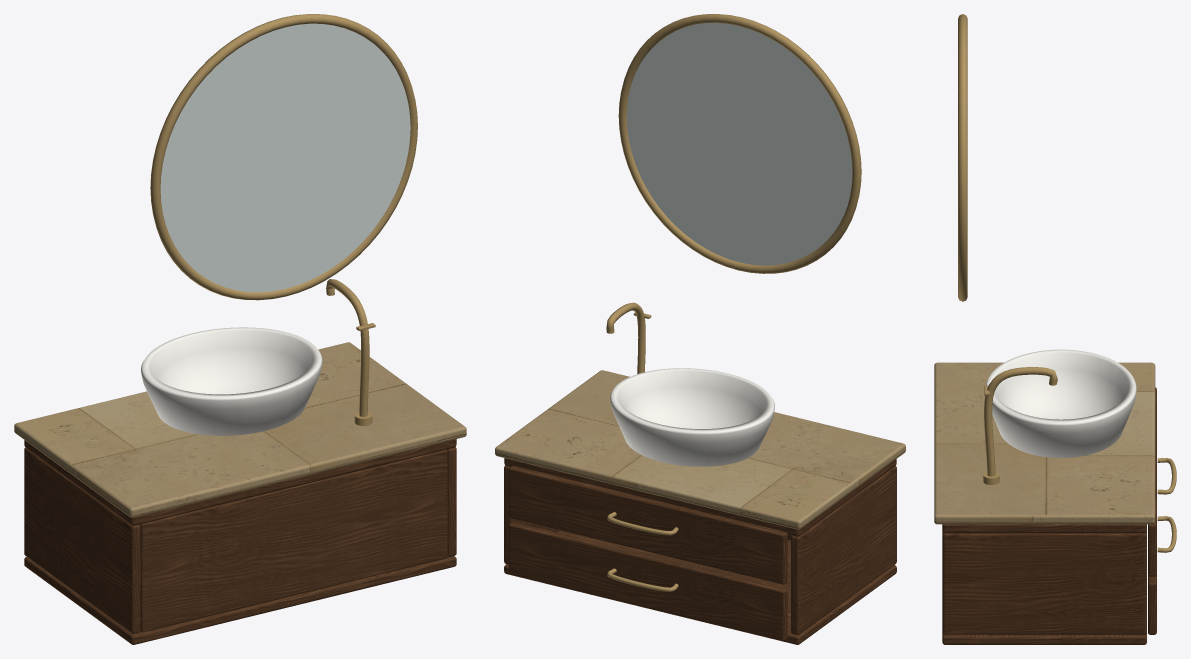
Rendered from residential-powder-vanity.glb.
The picture shows the model from 3 angles, left to right: view 1: azimuth 30°, elevation 25°; view 2: azimuth 150°, elevation 25°; view 3: azimuth 270°, elevation 25°; orthographic projection. The views are drawn at different scales.
Parts seen in each view (by area): view 1: walnut_surfaces, mirror_surfaces, stone_surfaces, ceramic_surfaces, bronze_surfaces; view 2: walnut_surfaces, mirror_surfaces, stone_surfaces, ceramic_surfaces, bronze_surfaces; view 3: walnut_surfaces, stone_surfaces, ceramic_surfaces, bronze_surfaces.
Part boxes in pixels (x1,y1,x2,y2): walnut_surfaces: [24, 439, 456, 644]; mirror_surfaces: [160, 23, 410, 292]; stone_surfaces: [14, 342, 466, 517]; ceramic_surfaces: [141, 327, 322, 435]; bronze_surfaces: [150, 14, 417, 425]; walnut_surfaces: [504, 458, 896, 644]; mirror_surfaces: [626, 23, 852, 265]; stone_surfaces: [495, 370, 905, 529]; ceramic_surfaces: [610, 368, 774, 466]; bronze_surfaces: [606, 14, 861, 591]; walnut_surfaces: [942, 387, 1156, 644]; stone_surfaces: [934, 362, 1155, 524]; ceramic_surfaces: [985, 349, 1136, 457]; bronze_surfaces: [958, 14, 1176, 552].
Size of the model in its own units: 0.89 by 1.47 by 0.5927.
Materials: 6 (2 with a texture image).
